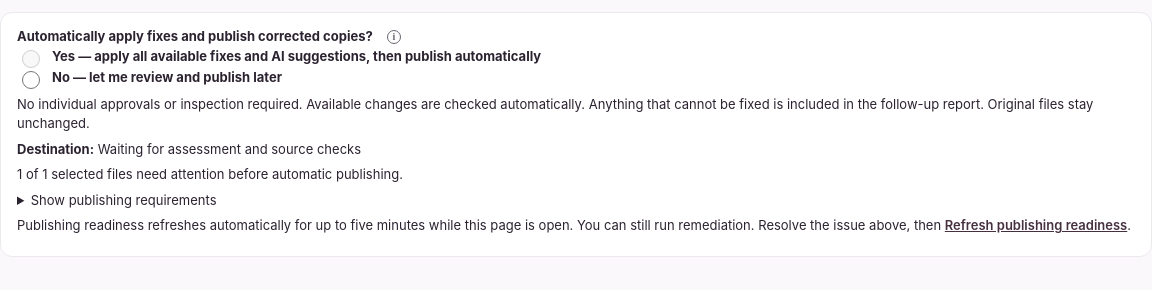
Scenario: explains blocked files and refreshes readiness without blaming the connection
Expected: the 1st radio button is disabled, [22,50,40,68]
Click the button "Refresh publishing readiness": (1036, 226) [945,216,1127,236]
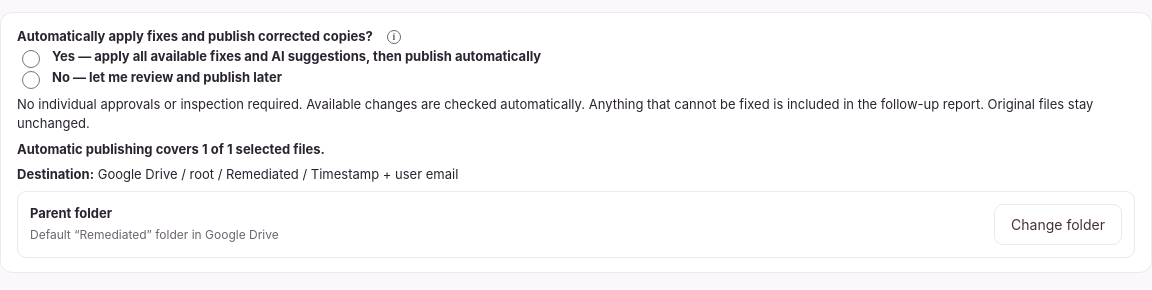
Expected: the 1st radio button is not checked, [22,50,40,68]
Expected: the 1st radio button is enabled, [22,50,40,68]
